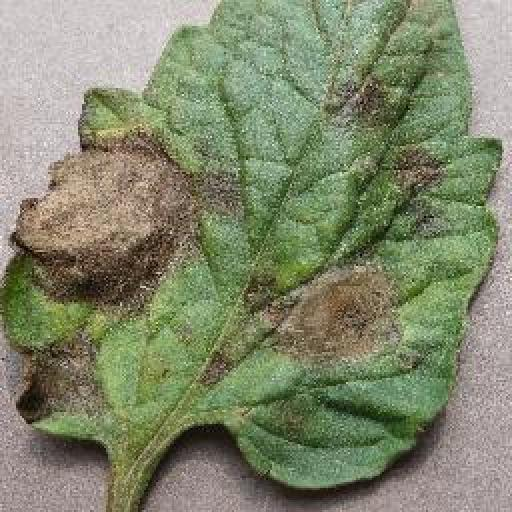disease_tomato: (0, 0, 503, 491)
